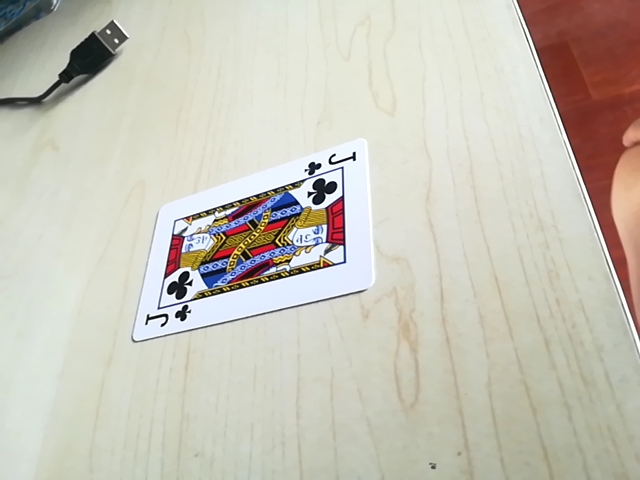mh j: (139, 302, 194, 336), (300, 151, 359, 181)
